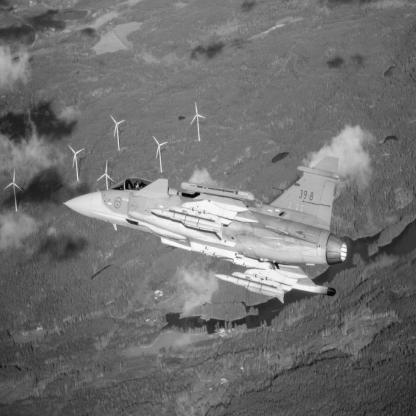JAS39: (64, 156, 348, 305)
